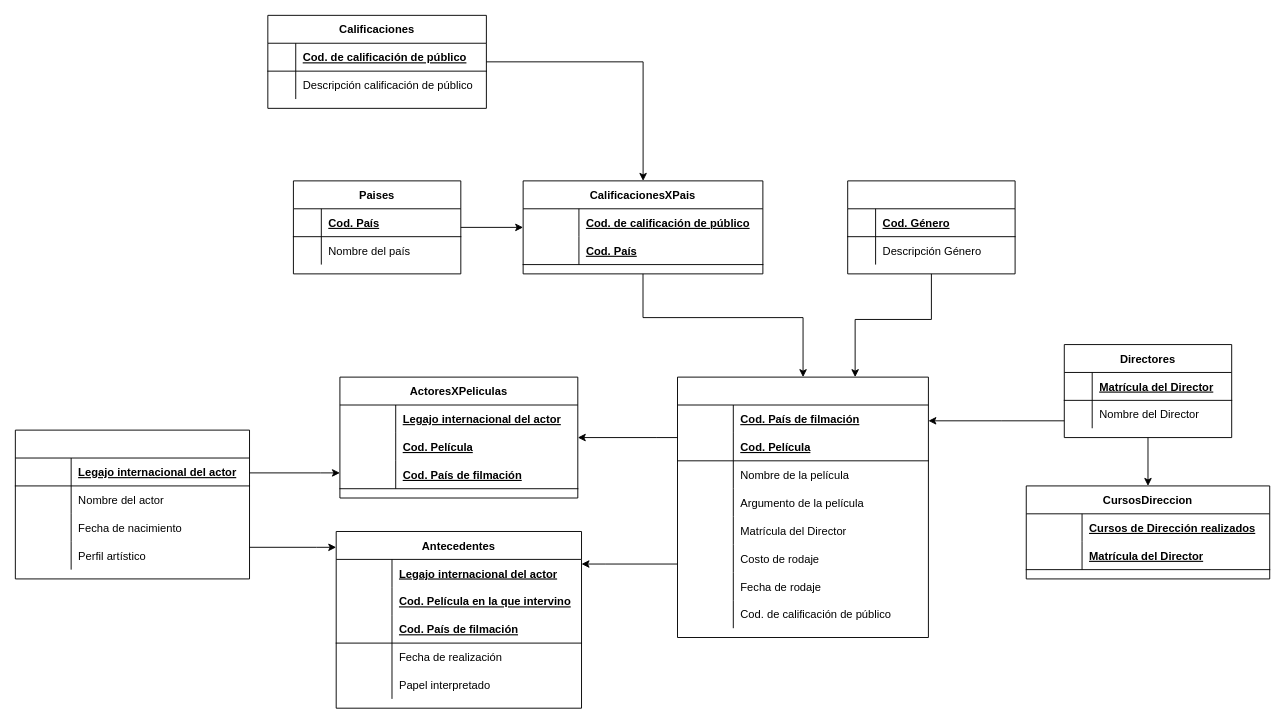
Image size: 1285x724. Some labels were removed from this diagram. Here are the shapes that lost their labels. From the top down, the box of each, then its label:
(847, 180, 1015, 274): Géneros
(14, 429, 250, 579): Actores
(677, 376, 928, 638): Peliculas
